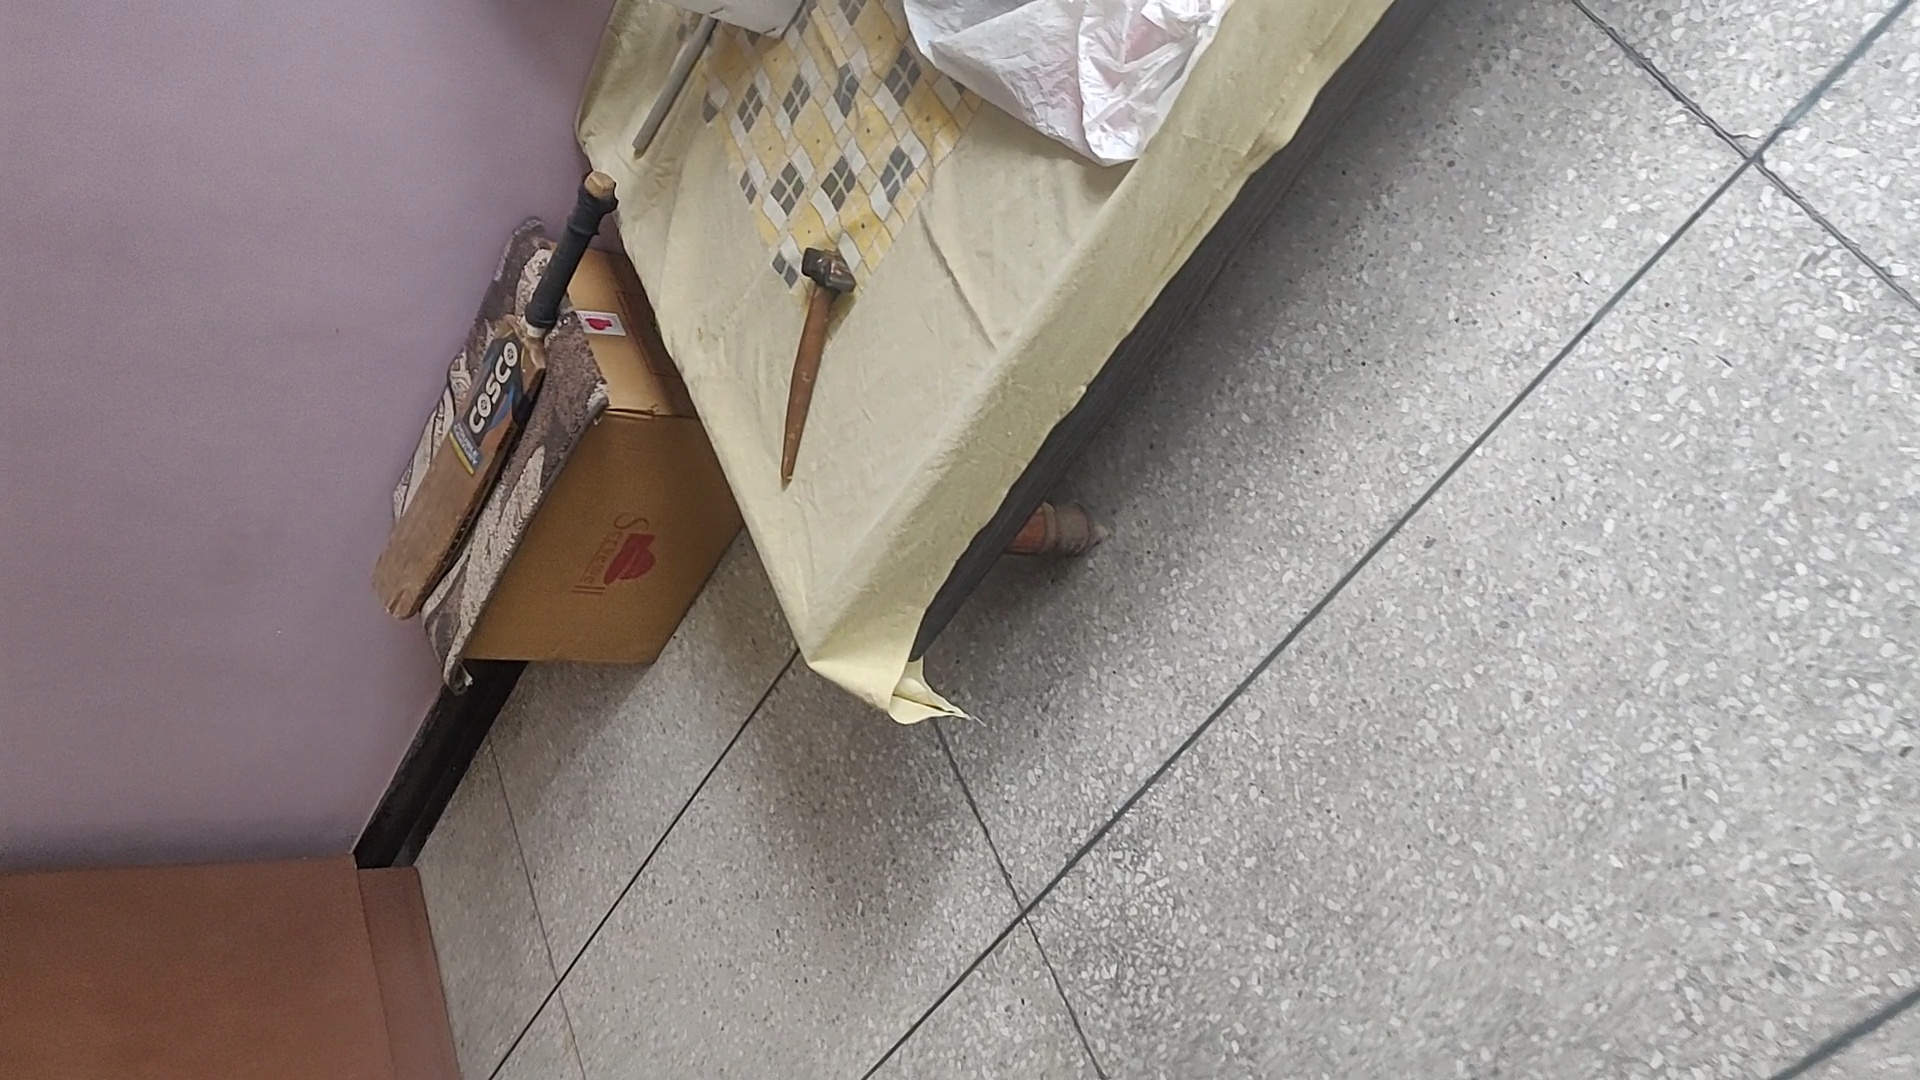hammer: (771, 247, 857, 484)
